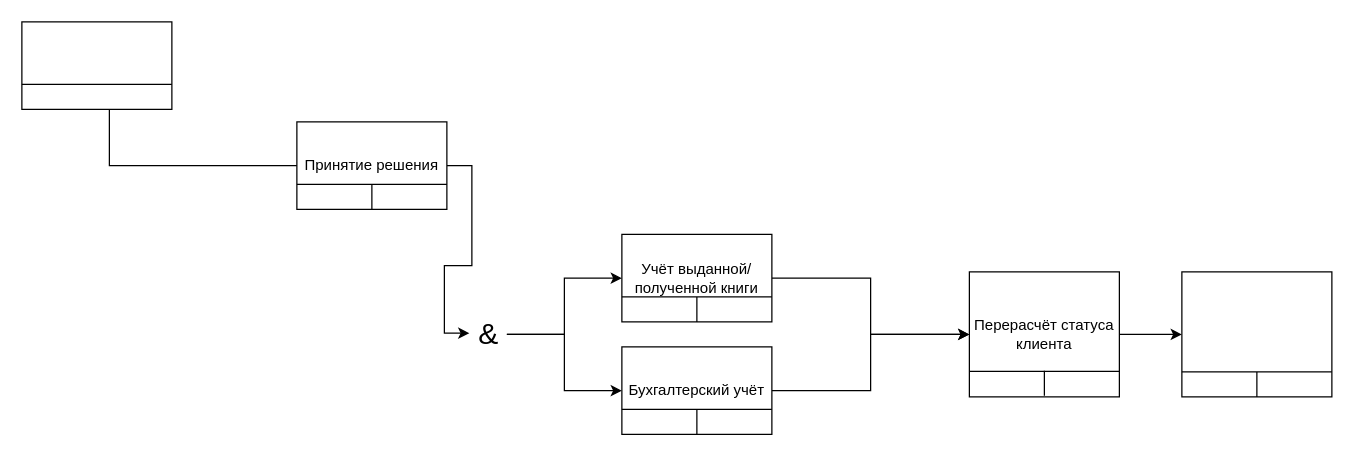
Image size: 1355x458. Some labels were removed from this diagram. Here are the shapes that lost their labels. From the top down, the box of each, then its label:
(21, 21, 172, 109): Обращение клиента
(1181, 271, 1332, 397): Перерасчёт баланса библиотеки
